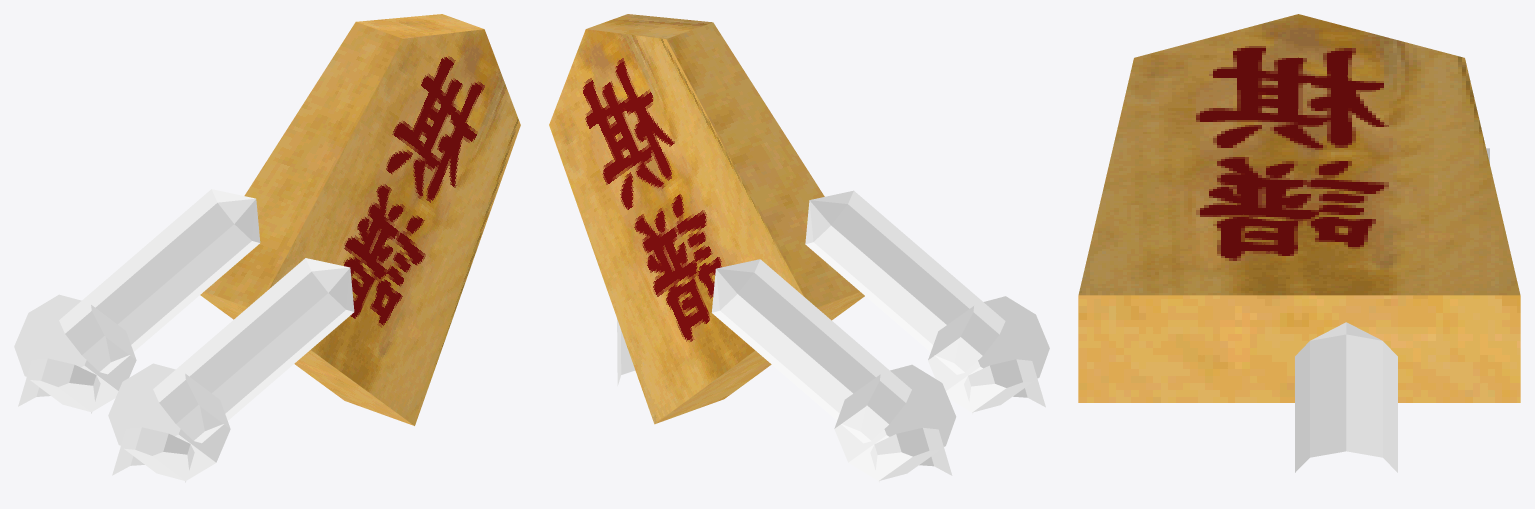
The model's file is ps2_save-icons_saikyoushougigekisashispecial-gamerecords.glb.
3 renders of one model, left to right at view 1: azimuth 30°, elevation 25°; view 2: azimuth 150°, elevation 25°; view 3: azimuth 270°, elevation 25°, orthographic. The views are drawn at different scales.
Visible parts, largest first — view 1: kifu.ico; view 2: kifu.ico; view 3: kifu.ico.
Boxes of the visible parts, left/top/right/bottom form: kifu.ico: left=14, top=14, right=520, bottom=482; kifu.ico: left=549, top=14, right=1049, bottom=482; kifu.ico: left=1078, top=14, right=1520, bottom=472.
Bounding box in the file's own units: 4.41 × 3.55 × 2.9.
Materials: 1 (1 with a texture image).
